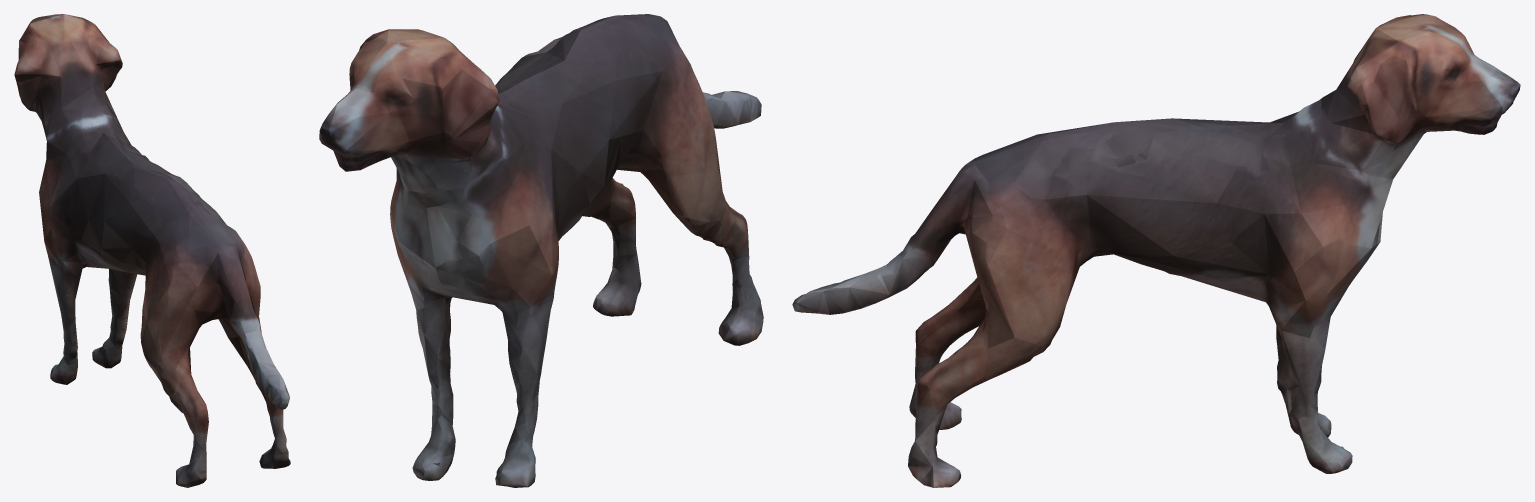
Rendered from Dog.fbx.
3 renders of one model, left to right at view 1: azimuth 30°, elevation 25°; view 2: azimuth 150°, elevation 25°; view 3: azimuth 270°, elevation 25°, orthographic. The views are drawn at different scales.
Parts seen in each view (by area): view 1: Dog; view 2: Dog; view 3: Dog.
Boxes of the visible parts, x1,y1,x2,y2 form: Dog: [14, 14, 290, 487]; Dog: [319, 14, 763, 487]; Dog: [792, 14, 1520, 487].
Bounding box in the file's own units: 0.1823 × 0.509 × 0.7759.
Materials: 1 (1 with a texture image).
